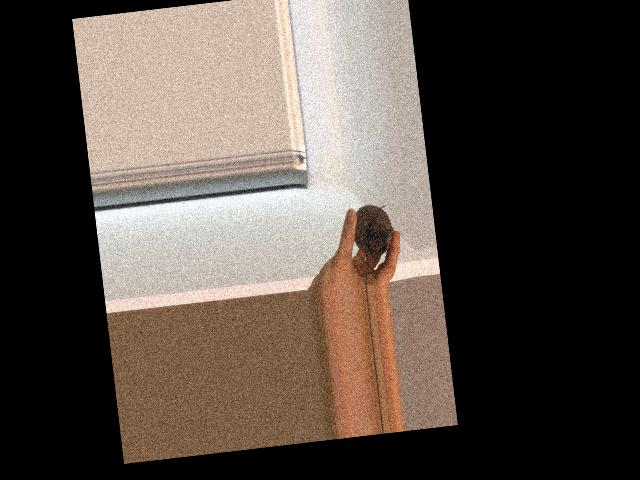beet: (349, 201, 400, 287)
